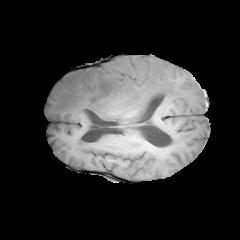glioma: (52, 60, 183, 124)
